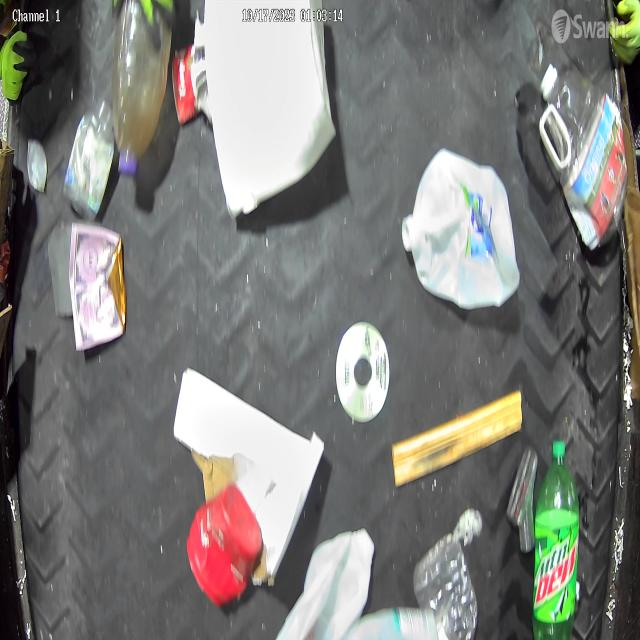can: (172, 43, 208, 127)
milk_jug: (402, 147, 518, 312), (281, 526, 377, 638)
plastic_bottle: (114, 4, 172, 181)
